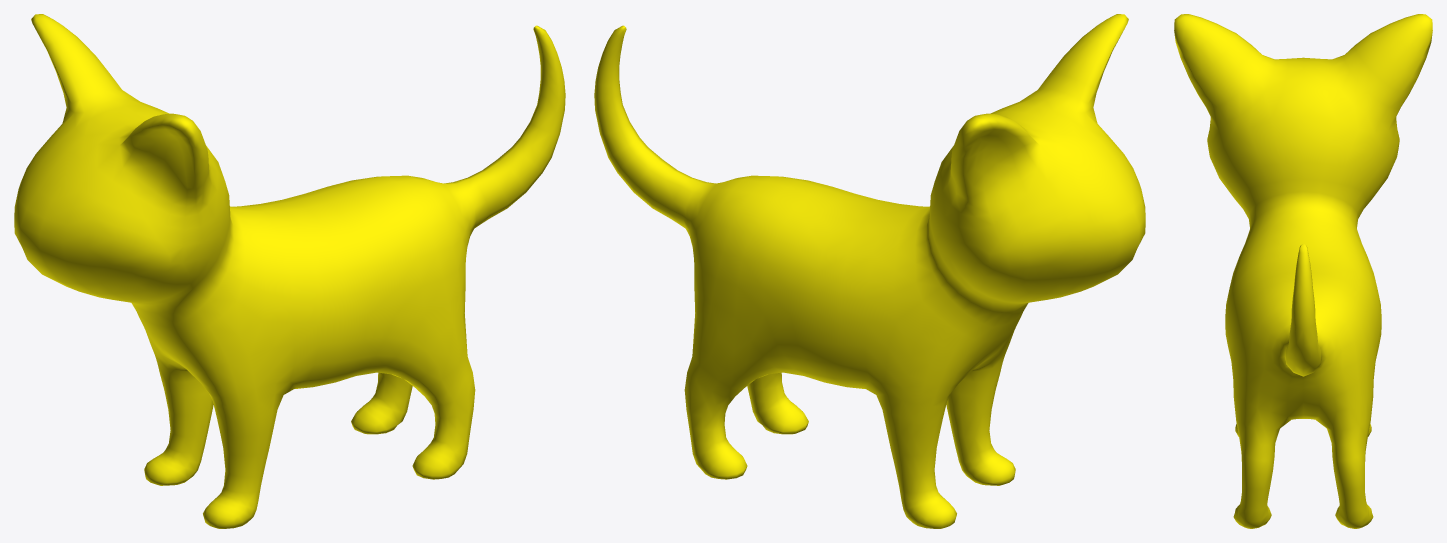
The model's file is pipoudou.glb.
3 views of the same model, side by side, from view 1: azimuth 30°, elevation 25°; view 2: azimuth 150°, elevation 25°; view 3: azimuth 270°, elevation 25° (orthographic). The views are drawn at different scales.
Visible parts, largest first — view 1: mesh_id27; view 2: mesh_id27; view 3: mesh_id27.
Part boxes in pixels (<box>): mesh_id27: <box>14,14,565,528</box>; mesh_id27: <box>594,14,1145,528</box>; mesh_id27: <box>1174,14,1432,528</box>.
Bounding box in the file's own units: 0.192 × 0.1538 × 0.0937.
1 material, 1 textured.
